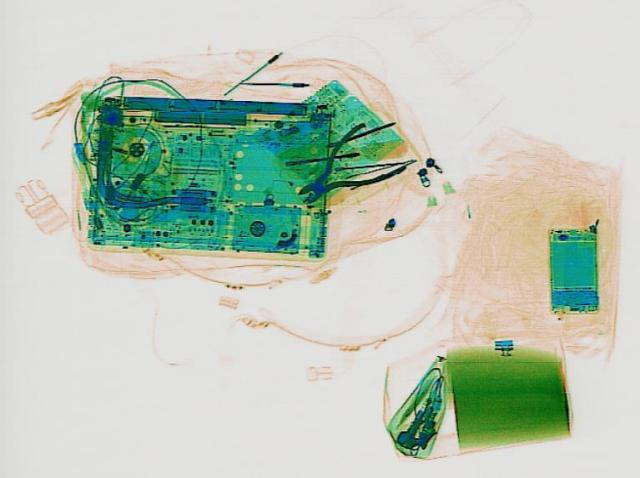Pliers: (272, 119, 416, 215)
